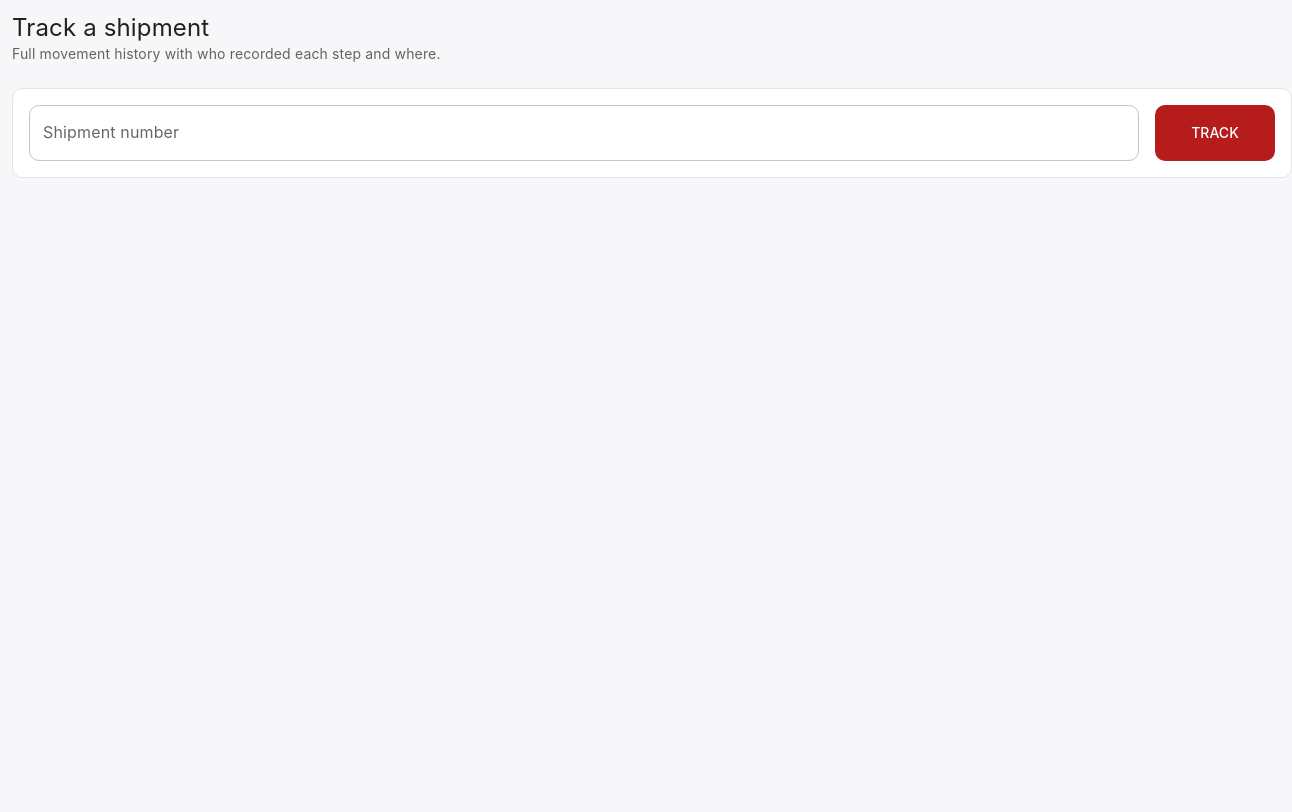
Test case: TrackingPage › shows the timeline newest first
Type "shp-20261110-abcdefgh" into the field labelled "Shipment number" at {"x": 584, "y": 133}, box top-left (29, 105), bottom-right (1139, 161)
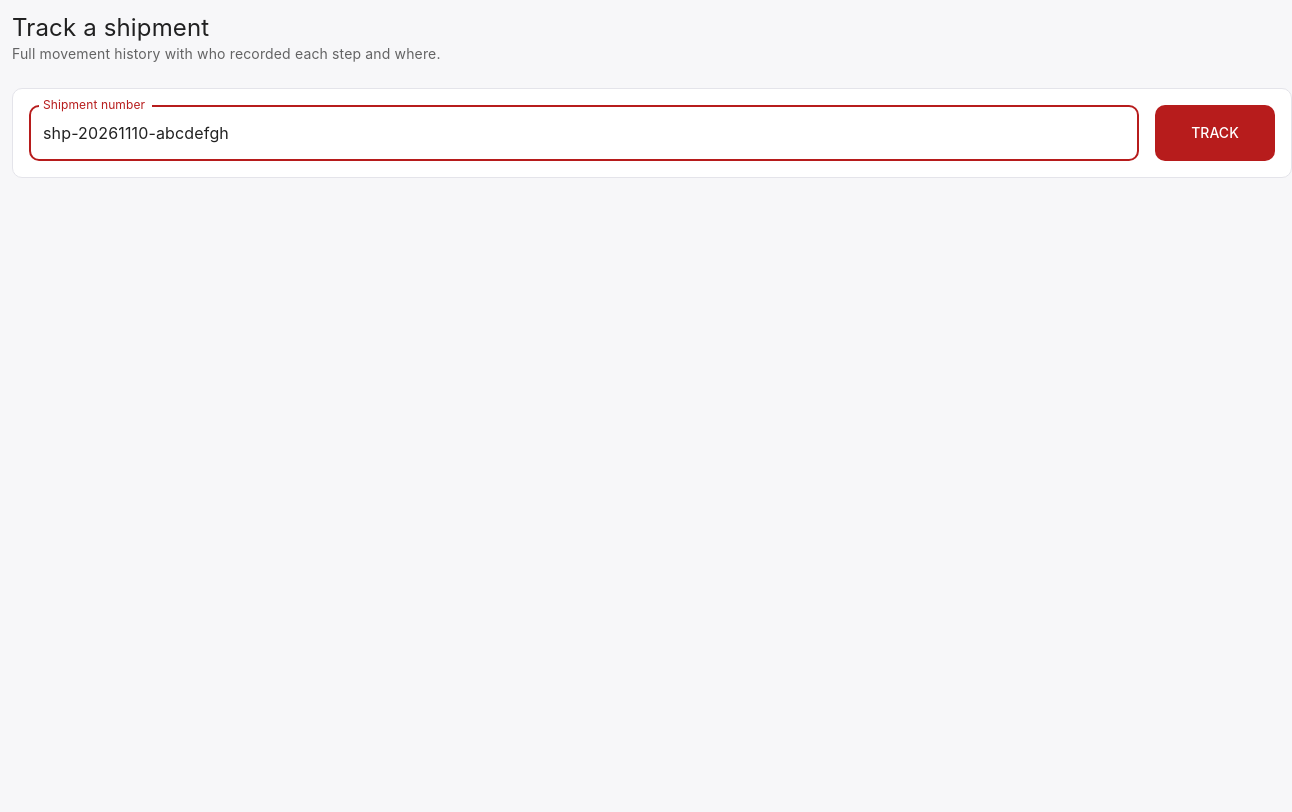
Click the button "Track" at {"x": 1215, "y": 133}, box top-left (1155, 105), bottom-right (1275, 161)
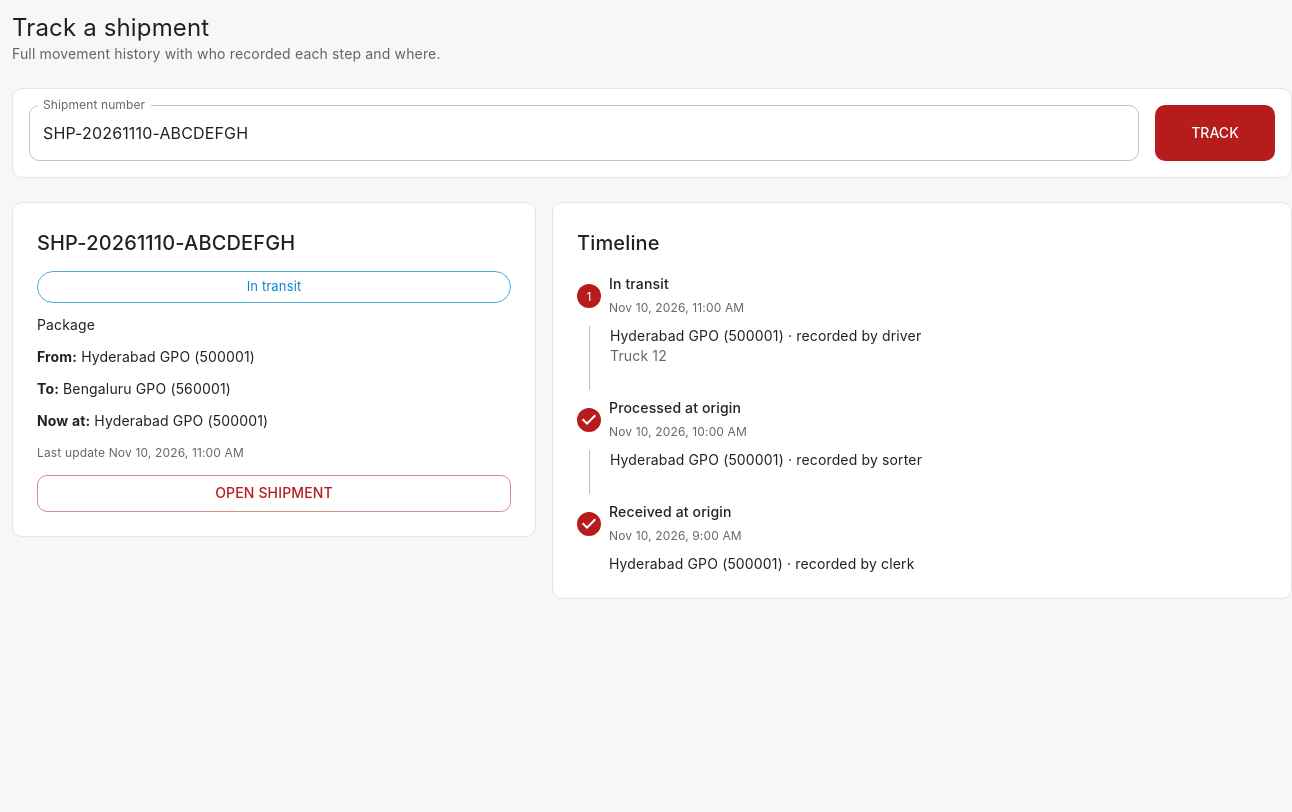
Check: the text "Truck 12" is shown, box top-left (610, 347), bottom-right (667, 364)
Check: the text "In transit" below "SHP-20261110-ABCDEFGH" is shown, box top-left (247, 278), bottom-right (301, 294)
